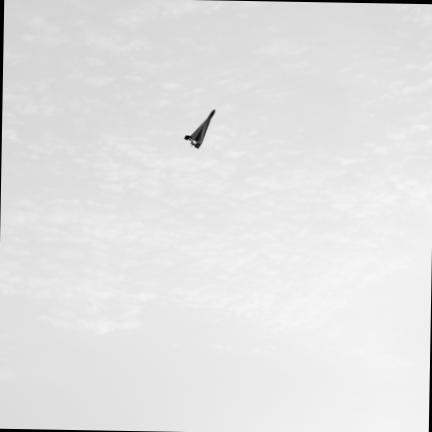Shahed: (184, 109, 214, 147)
